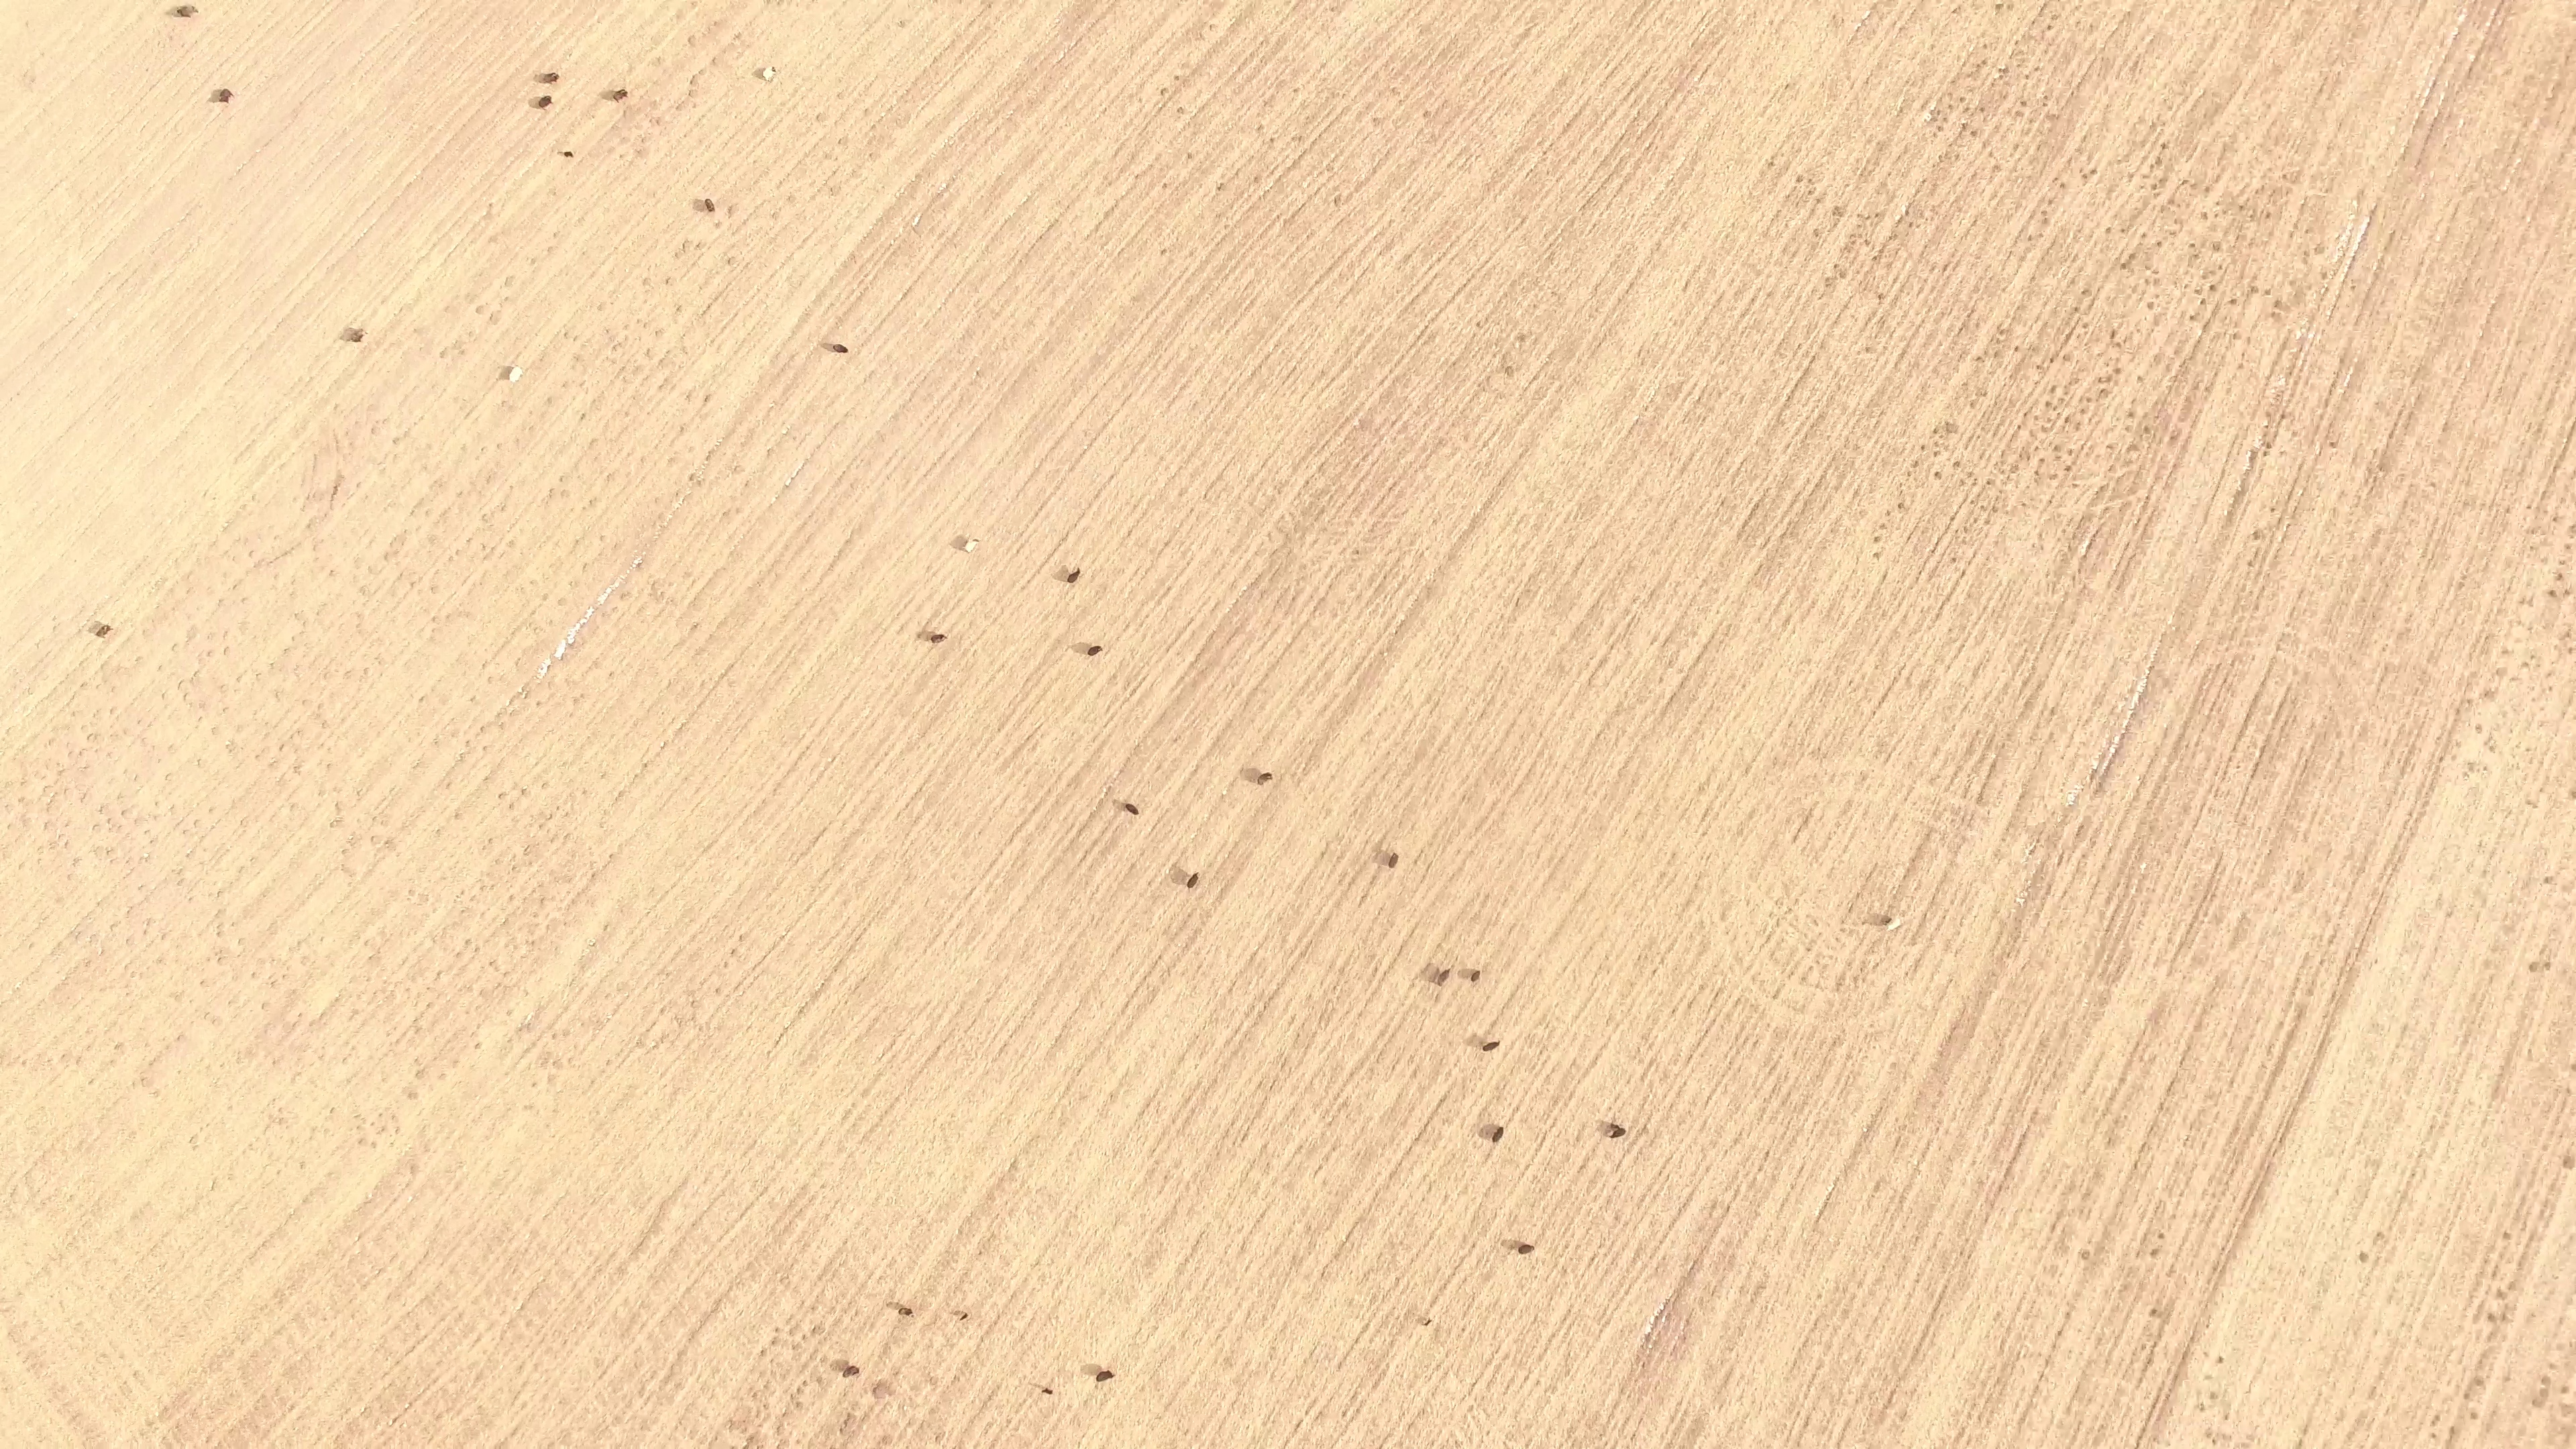sheep: (1876, 913, 1909, 934), (1603, 1119, 1629, 1144), (1485, 1121, 1507, 1148), (343, 326, 372, 347), (206, 86, 235, 105), (1477, 1035, 1503, 1058), (502, 363, 527, 385), (90, 623, 118, 643), (171, 2, 199, 21), (1514, 1237, 1538, 1259), (1092, 1366, 1117, 1387), (1252, 768, 1277, 788), (837, 1361, 863, 1381), (1062, 563, 1083, 586), (533, 93, 556, 113), (1432, 966, 1452, 990), (1120, 800, 1145, 818), (926, 629, 952, 647), (607, 87, 634, 105), (537, 70, 562, 87), (700, 195, 721, 215), (1182, 868, 1201, 892), (1382, 849, 1401, 872), (961, 535, 981, 555), (894, 1303, 917, 1320), (827, 339, 851, 357), (1082, 642, 1105, 659), (1466, 966, 1483, 985), (761, 65, 777, 83), (1419, 1315, 1434, 1328), (1040, 1385, 1056, 1398), (561, 148, 576, 160), (959, 1311, 971, 1322)
unknown: (2229, 481, 2248, 511), (2117, 250, 2139, 272), (869, 1379, 888, 1397), (2176, 1347, 2192, 1370), (2210, 1263, 2229, 1280), (2559, 1152, 2576, 1171), (2246, 448, 2261, 466), (2147, 1306, 2165, 1321), (2248, 1190, 2262, 1210), (2471, 1375, 2487, 1389), (2169, 1368, 2184, 1385), (2002, 1163, 2015, 1179), (2314, 1039, 2327, 1058), (2529, 1396, 2544, 1410), (2485, 1310, 2500, 1326), (2356, 1250, 2371, 1266), (2191, 1020, 2205, 1034), (2526, 959, 2541, 975), (2125, 441, 2141, 454), (2223, 508, 2237, 525), (2536, 1386, 2551, 1400), (2493, 1286, 2506, 1301), (2147, 1246, 2161, 1260), (2545, 587, 2560, 601), (2447, 1424, 2459, 1440), (2284, 1028, 2297, 1044), (2293, 1007, 2306, 1023), (2130, 693, 2147, 705), (1832, 203, 1845, 219), (1943, 419, 1953, 437), (2461, 1389, 2473, 1403), (2207, 1389, 2218, 1403), (2538, 1374, 2553, 1387), (2506, 1279, 2518, 1293), (2500, 1230, 2514, 1242), (1872, 1179, 1884, 1192), (1418, 964, 1432, 978), (555, 644, 568, 659), (2553, 570, 2566, 584), (2251, 529, 2263, 543), (329, 483, 341, 498), (2141, 423, 2153, 437), (2271, 297, 2284, 311), (2206, 281, 2220, 294), (1992, 1, 2005, 13), (2431, 1412, 2443, 1424), (2467, 1409, 2480, 1422), (2558, 1384, 2571, 1396), (1642, 1333, 1654, 1345), (1651, 1313, 1663, 1326), (2155, 1230, 2167, 1242), (2374, 1229, 2387, 1242), (2541, 959, 2554, 972), (1988, 761, 1998, 773), (1931, 469, 1945, 482), (2375, 460, 2389, 473), (2326, 439, 2339, 451), (2047, 383, 2059, 396), (2103, 373, 2115, 386), (2144, 299, 2157, 312), (2227, 296, 2240, 308), (2148, 181, 2160, 193), (2156, 175, 2169, 187), (1968, 128, 1980, 140), (1663, 1309, 1674, 1324), (2282, 1122, 2292, 1135), (2301, 1077, 2312, 1091), (1923, 830, 1933, 844), (2481, 688, 2497, 700), (1688, 1426, 1699, 1438), (2187, 1334, 2198, 1346), (2054, 1328, 2065, 1339), (1643, 1323, 1654, 1335), (2499, 1310, 2510, 1324), (2063, 1309, 2074, 1322), (1499, 1237, 1509, 1248), (1995, 1182, 2006, 1195), (2116, 1075, 2128, 1085), (2328, 989, 2339, 1002), (2540, 874, 2552, 887), (2087, 769, 2098, 783), (2257, 744, 2268, 756), (2252, 602, 2262, 613), (2455, 579, 2466, 592), (2063, 462, 2074, 474), (2552, 461, 2562, 472), (2260, 448, 2270, 460), (2263, 439, 2274, 451), (2167, 433, 2180, 445), (2385, 430, 2396, 442), (2061, 415, 2072, 426), (2277, 411, 2289, 422), (2263, 409, 2274, 421), (2043, 398, 2053, 410), (2112, 365, 2123, 377), (2279, 340, 2290, 352), (1517, 333, 1527, 345), (2063, 331, 2074, 343), (2107, 329, 2118, 342), (2186, 313, 2200, 323), (2071, 305, 2082, 315), (2198, 297, 2209, 308), (2262, 287, 2273, 299), (2079, 286, 2092, 298), (1822, 275, 1833, 286), (2319, 270, 2330, 281), (2188, 241, 2198, 251), (2041, 217, 2051, 227), (1902, 207, 1912, 219), (2165, 197, 2178, 207), (2153, 157, 2165, 168), (2159, 141, 2171, 152), (2018, 98, 2030, 109), (2000, 65, 2011, 76), (2135, 1432, 2145, 1444), (2203, 1430, 2214, 1441), (2139, 1424, 2149, 1436), (841, 1417, 851, 1428), (2221, 1412, 2231, 1422), (844, 1411, 855, 1421), (2149, 1401, 2159, 1411), (1885, 1395, 1895, 1405), (2163, 1391, 2173, 1401), (2214, 1354, 2226, 1366), (951, 1307, 963, 1319), (1680, 1274, 1691, 1284), (2080, 1253, 2091, 1263), (2526, 1234, 2536, 1244), (2054, 1210, 2064, 1220), (2016, 1139, 2026, 1149), (2019, 1131, 2029, 1141), (2031, 1108, 2041, 1118), (1466, 1036, 1477, 1046), (1945, 1033, 1955, 1043), (2151, 1018, 2161, 1028), (1684, 1002, 1695, 1012), (2305, 986, 2315, 996), (2355, 944, 2365, 954), (2191, 912, 2202, 922), (2200, 892, 2210, 903), (2030, 873, 2040, 883), (1915, 845, 1925, 855), (1790, 833, 1801, 843), (2118, 731, 2128, 742), (2047, 706, 2057, 717), (2022, 698, 2033, 709), (2565, 645, 2575, 656), (2563, 630, 2573, 641), (2561, 587, 2573, 598), (2245, 559, 2255, 570), (2563, 542, 2573, 552), (2084, 541, 2094, 551), (1871, 534, 1881, 545), (1877, 522, 1888, 532), (1947, 515, 1957, 525), (2288, 512, 2298, 522), (2096, 484, 2106, 495), (1984, 478, 1994, 488), (1951, 458, 1963, 469), (2051, 443, 2061, 454), (1918, 443, 1928, 453), (2566, 429, 2576, 439), (2534, 425, 2544, 436), (2440, 425, 2450, 435), (2126, 409, 2137, 420), (1502, 364, 1512, 376), (2337, 355, 2347, 367), (2047, 355, 2057, 366), (1991, 349, 2002, 360), (2230, 331, 2240, 341), (2200, 323, 2210, 333), (2268, 309, 2279, 320), (2193, 286, 2203, 297), (2213, 241, 2224, 252), (2154, 239, 2165, 250), (2025, 234, 2035, 244), (1812, 229, 1822, 239), (2263, 211, 2273, 221), (2045, 197, 2055, 207), (2202, 184, 2213, 195), (2057, 180, 2068, 191), (2180, 176, 2190, 187), (2279, 171, 2290, 182), (2080, 171, 2090, 182), (2088, 167, 2098, 178), (1267, 135, 1277, 145), (2149, 120, 2159, 130), (1957, 95, 1967, 105), (1172, 72, 1182, 83), (2130, 60, 2140, 70), (2471, 55, 2481, 65), (2456, 13, 2467, 23), (1950, 6, 1960, 16), (2040, 1, 2050, 10), (2568, 1061, 2576, 1074), (2568, 788, 2576, 802), (2445, 1438, 2455, 1448), (2121, 1283, 2131, 1293), (2081, 1190, 2091, 1200), (1413, 1134, 1423, 1144), (2262, 1088, 2272, 1098), (2269, 1069, 2279, 1079), (2184, 1042, 2194, 1053), (2056, 852, 2066, 862), (1371, 852, 1381, 862), (2076, 822, 2086, 833), (2487, 743, 2497, 754), (2111, 734, 2121, 744), (2520, 659, 2530, 669), (1949, 555, 1960, 565), (1872, 549, 1882, 559), (2065, 544, 2075, 554), (2551, 515, 2561, 525), (2503, 506, 2513, 516), (2143, 493, 2153, 503), (1912, 458, 1922, 469), (1930, 427, 1940, 437), (2183, 394, 2193, 405), (2190, 383, 2201, 393), (2135, 374, 2145, 384), (2011, 345, 2021, 355), (1862, 344, 1872, 355), (2294, 329, 2304, 339), (1998, 327, 2008, 337), (2248, 283, 2258, 294), (2387, 229, 2398, 239), (2358, 223, 2368, 233), (2236, 203, 2246, 213), (1813, 196, 1823, 206), (1251, 174, 1261, 184), (1185, 151, 1195, 162), (1960, 123, 1970, 133), (2430, 115, 2440, 125), (1978, 105, 1988, 115), (740, 1442, 752, 1449), (1861, 1132, 1871, 1142), (2464, 696, 2474, 706), (2267, 505, 2277, 515), (1829, 454, 1839, 464), (1979, 58, 1989, 68), (2045, 22, 2055, 32), (2292, 1442, 2304, 1449), (2420, 1, 2430, 5)
